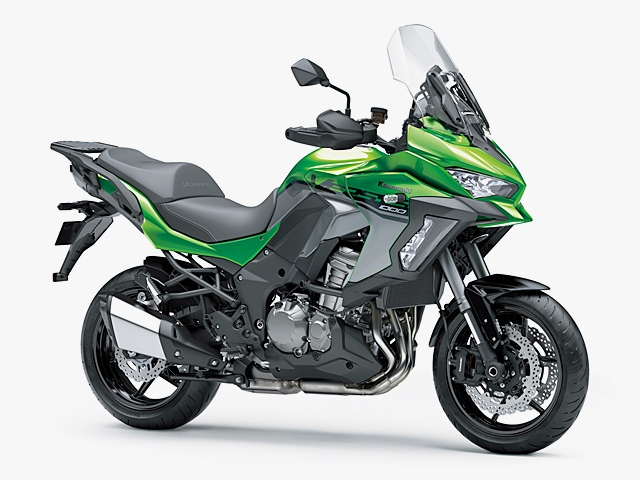motorcycle: (45, 78, 594, 453)
